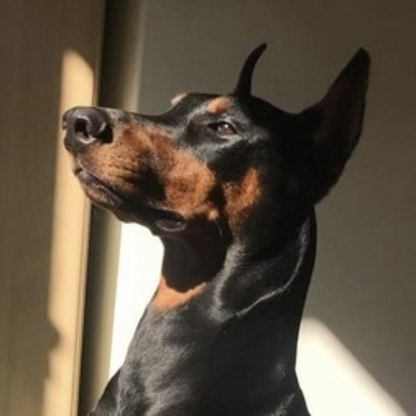doberman: (55, 38, 375, 416)
